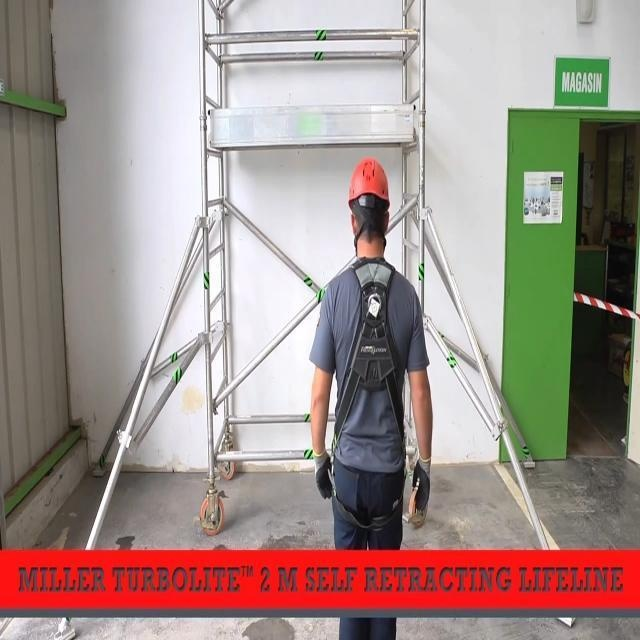Arnes_seguridad: (328, 249, 408, 537)
